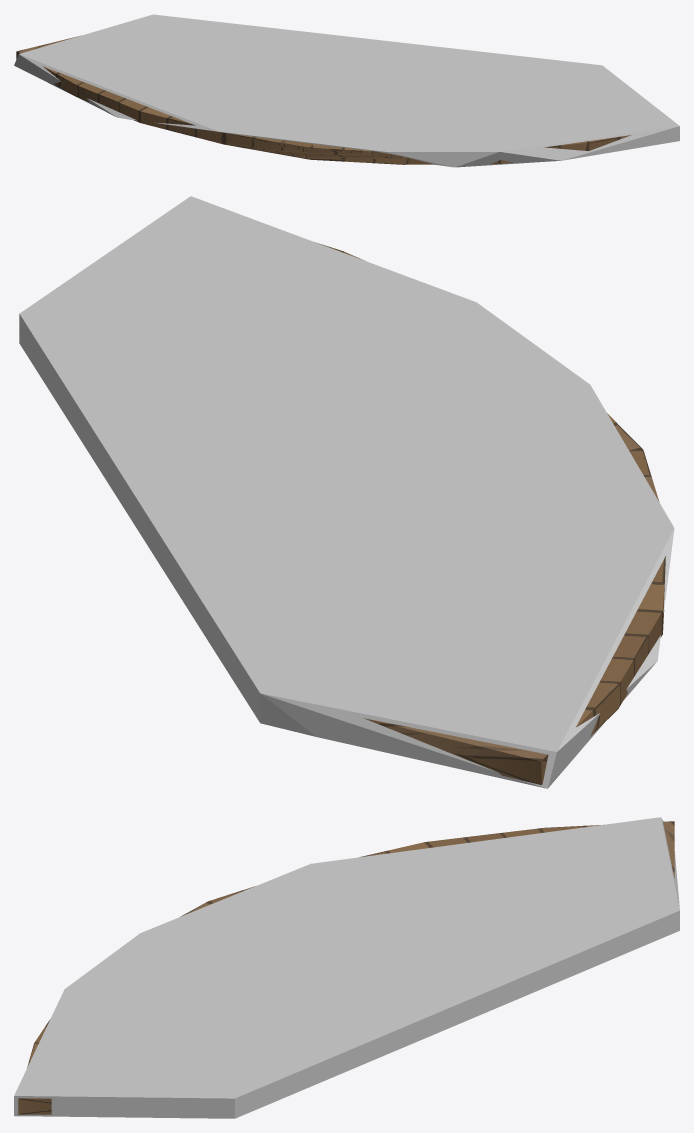
The model's file is SM_Bld_Floor_Curved_Half_01.fbx.
3 renders of one model, top to bottom at view 1: azimuth 30°, elevation 25°; view 2: azimuth 150°, elevation 25°; view 3: azimuth 270°, elevation 25°, orthographic. The views are drawn at different scales.
Parts seen in each view (by area): view 1: SM_Bld_Floor_Curved_Half_01_ConvexHulls, SM_Bld_Floor_Curved_Half_01; view 2: SM_Bld_Floor_Curved_Half_01_ConvexHulls, SM_Bld_Floor_Curved_Half_01; view 3: SM_Bld_Floor_Curved_Half_01_ConvexHulls, SM_Bld_Floor_Curved_Half_01.
Part boxes in pixels (x1=…): SM_Bld_Floor_Curved_Half_01_ConvexHulls: x1=14, y1=14, x2=679, y2=167; SM_Bld_Floor_Curved_Half_01: x1=16, y1=35, x2=631, y2=164; SM_Bld_Floor_Curved_Half_01_ConvexHulls: x1=19, y1=196, x2=674, y2=788; SM_Bld_Floor_Curved_Half_01: x1=317, y1=243, x2=665, y2=784; SM_Bld_Floor_Curved_Half_01_ConvexHulls: x1=14, y1=817, x2=679, y2=1118; SM_Bld_Floor_Curved_Half_01: x1=18, y1=821, x2=674, y2=1114.
Bounding box in the file's own units: 380 × 380 × 12.75.
Materials: 2 (1 with a texture image).
